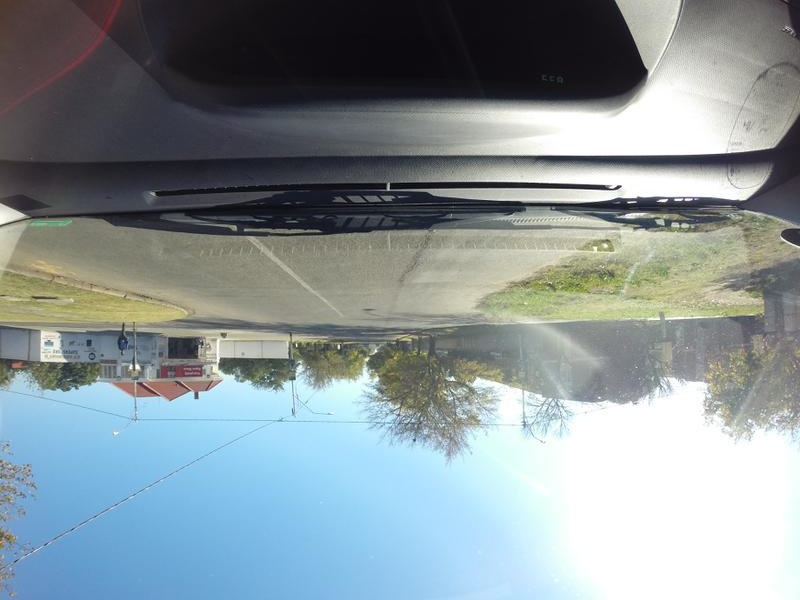pothole: (359, 304, 373, 314)
